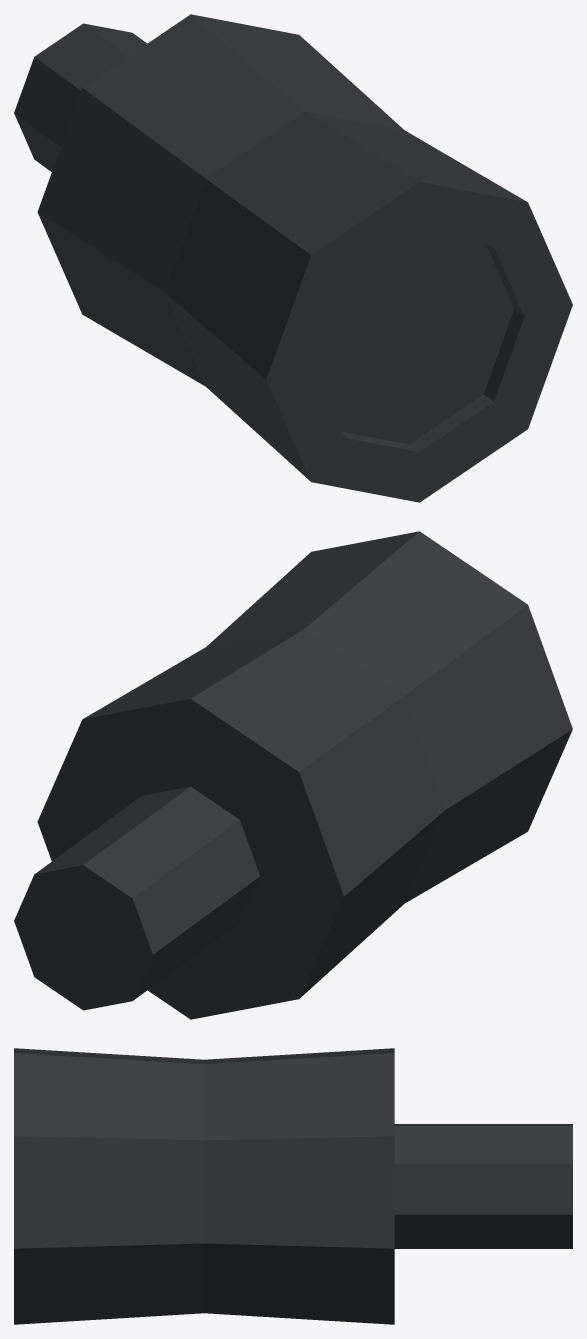
The model's file is Shotgun2_04_4.fbx.
3 renders of one model, top to bottom at view 1: azimuth 30°, elevation 25°; view 2: azimuth 150°, elevation 25°; view 3: azimuth 270°, elevation 25°, orthographic. The views are drawn at different scales.
Visible parts, largest first — view 1: Shotgun2_04_4; view 2: Shotgun2_04_4; view 3: Shotgun2_04_4.
Boxes of the visible parts, x1,y1,x2,y2 form: Shotgun2_04_4: (14,14,572,502); Shotgun2_04_4: (14,531,572,1019); Shotgun2_04_4: (14,1048,572,1324).
Bounding box in the file's own units: 0.0123 × 0.0123 × 0.0234.
